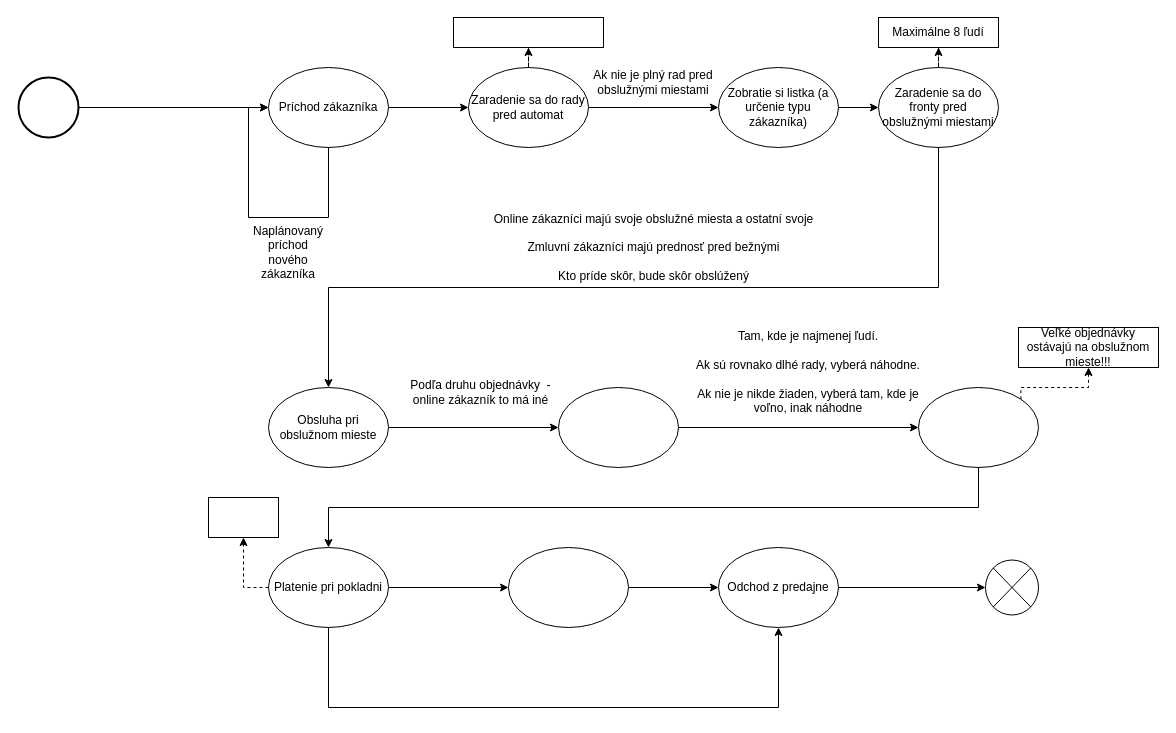
Some shapes in this 1176 by 733 pixel diagram are drawn without their labels. Each missing label, with the box of its shape:
Karta, alebo hotovosť: (208, 496, 278, 538)
Postavenie sa do radu pred pokladňou: (918, 386, 1038, 468)
Prinesenie objednávky pracovníkom: (558, 386, 678, 468)
Vyberie sa typ zákazníka: (452, 16, 604, 48)
Zobratie objednávky (ak sa jedná o veľkú objednávku): (508, 546, 628, 628)
